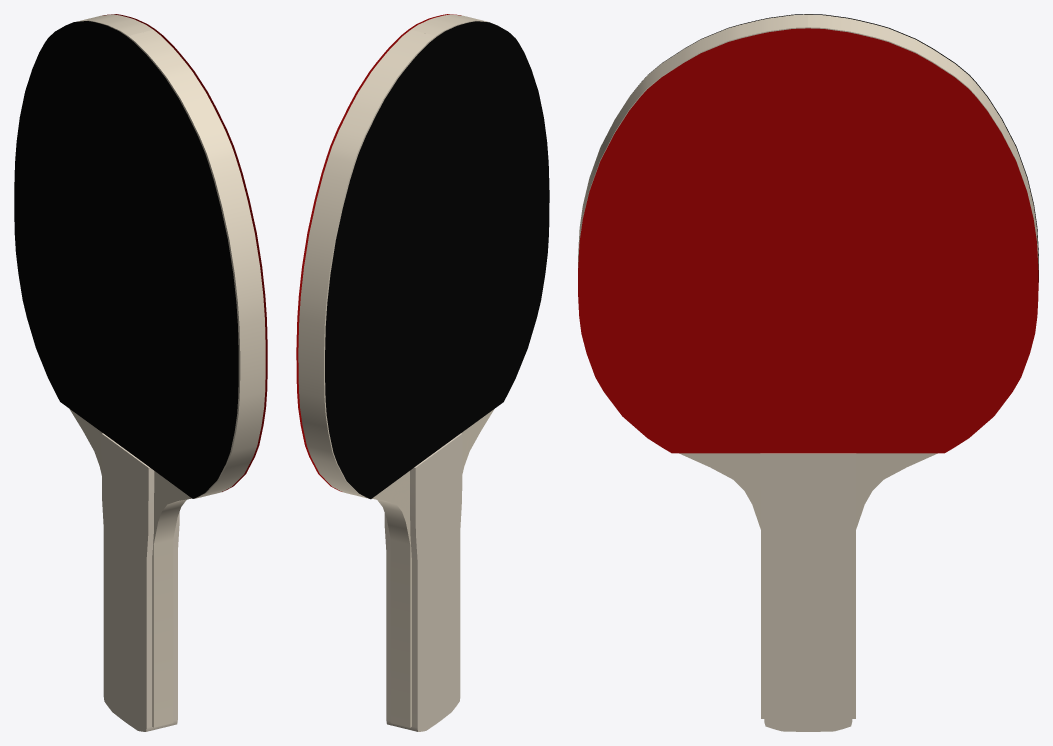
The picture shows the model from 3 angles, left to right: view 1: azimuth 30°, elevation 25°; view 2: azimuth 150°, elevation 25°; view 3: azimuth 270°, elevation 25°; orthographic projection. The views are drawn at different scales.
Parts seen in each view (by area): view 1: pCube3, pingpongracket:pCube12, pingpongracket:pCube5, pingpongracket:pCube9, pingpongracket:pCube3; view 2: pCube3, pingpongracket:pCube12, pingpongracket:pCube5, pingpongracket:pCube9, pingpongracket:pCube3; view 3: pingpongracket:pCube3, pingpongracket:pCube12, pingpongracket:pCube5, pingpongracket:pCube9.
Part boxes in pixels (bbox=[...]): pCube3: bbox=[14, 21, 238, 498]; pingpongracket:pCube12: bbox=[101, 433, 179, 731]; pingpongracket:pCube5: bbox=[77, 14, 265, 498]; pingpongracket:pCube9: bbox=[69, 409, 191, 727]; pingpongracket:pCube3: bbox=[102, 14, 267, 491]; pCube3: bbox=[325, 21, 549, 499]; pingpongracket:pCube12: bbox=[384, 433, 462, 731]; pingpongracket:pCube5: bbox=[298, 14, 488, 498]; pingpongracket:pCube9: bbox=[372, 409, 494, 727]; pingpongracket:pCube3: bbox=[296, 14, 461, 491]; pingpongracket:pCube3: bbox=[578, 28, 1038, 453]; pingpongracket:pCube12: bbox=[760, 453, 856, 731]; pingpongracket:pCube5: bbox=[578, 14, 1038, 269]; pingpongracket:pCube9: bbox=[679, 453, 937, 718].
Bounding box in the file's own units: 1.89 × 39.75 × 23.62.
